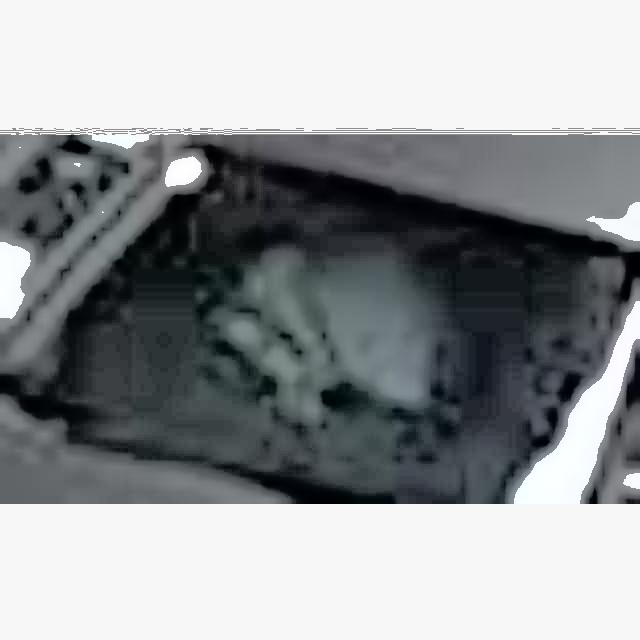pakai: (197, 201, 427, 422)
